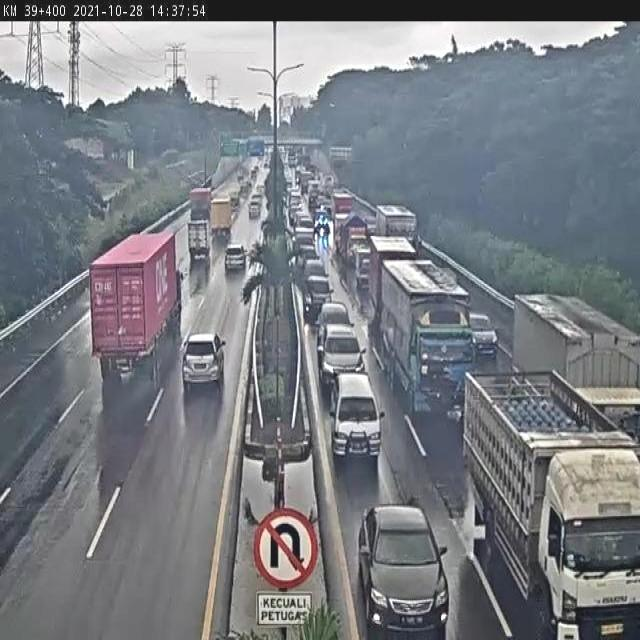Car: (355, 501, 452, 633), (316, 322, 368, 392), (180, 330, 227, 388), (314, 300, 356, 364), (302, 273, 335, 323), (468, 310, 499, 362), (300, 253, 330, 281), (223, 244, 248, 274), (248, 200, 262, 221), (256, 182, 266, 195), (252, 192, 263, 202)
Truck: (458, 364, 640, 640), (510, 290, 640, 444), (379, 258, 472, 418), (86, 229, 183, 377), (361, 235, 418, 315), (374, 203, 422, 256), (341, 212, 368, 265), (208, 194, 233, 240), (185, 219, 212, 260), (188, 185, 213, 222), (355, 243, 374, 291), (333, 212, 352, 252), (332, 191, 354, 220), (229, 189, 241, 208), (238, 179, 250, 195), (237, 168, 244, 182)
Van: (328, 372, 388, 463)
